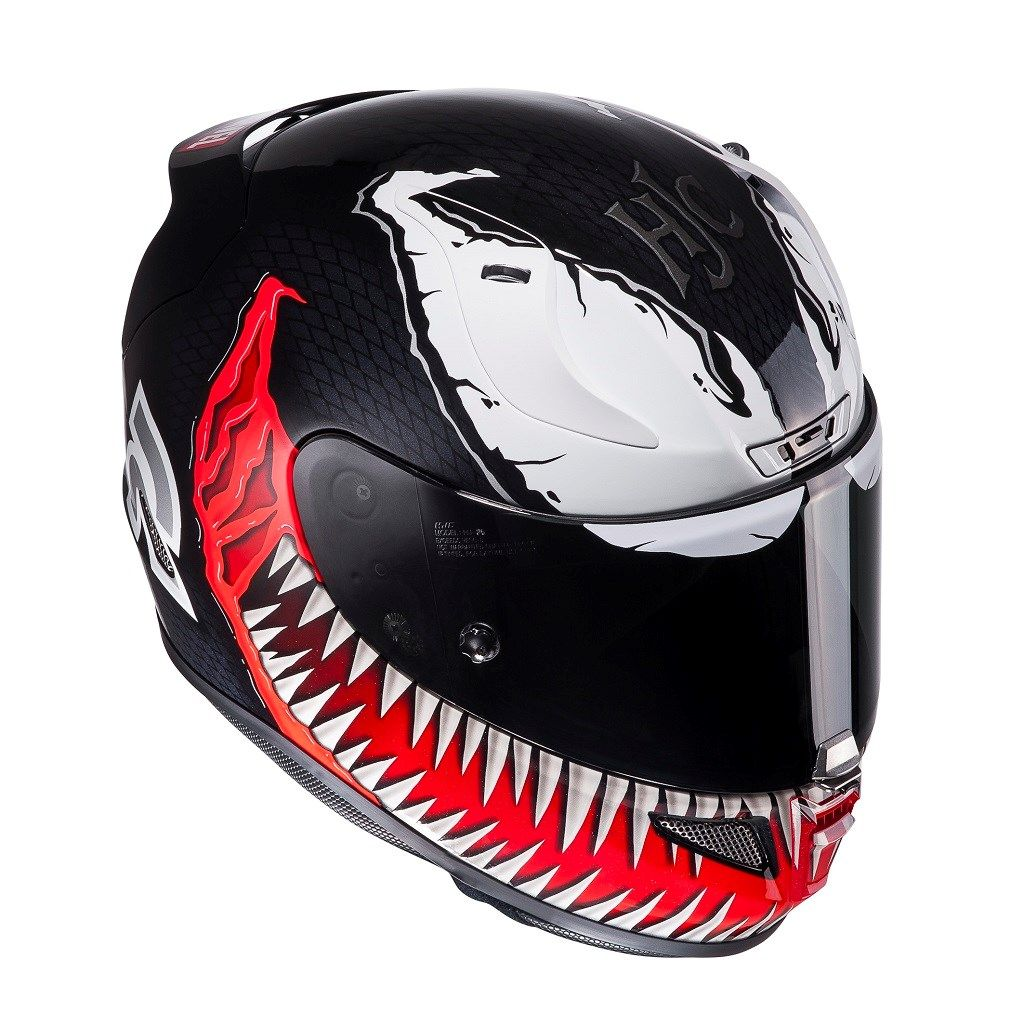with_helmet: (113, 77, 901, 963)
